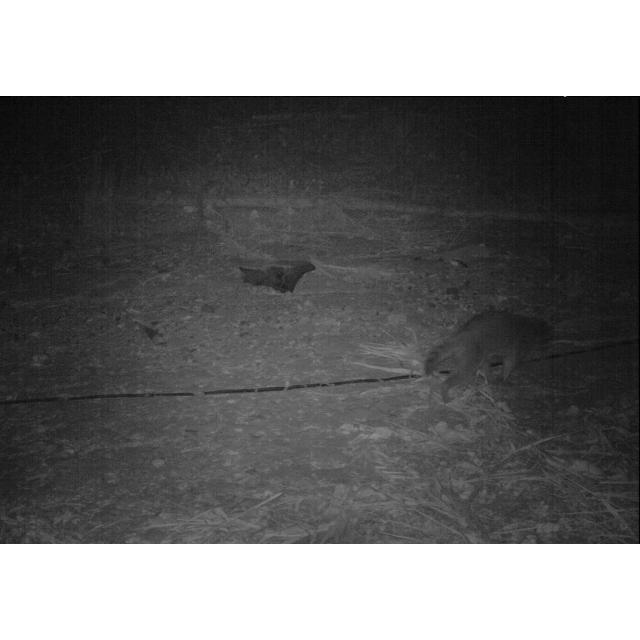animals: (424, 306, 556, 402)
